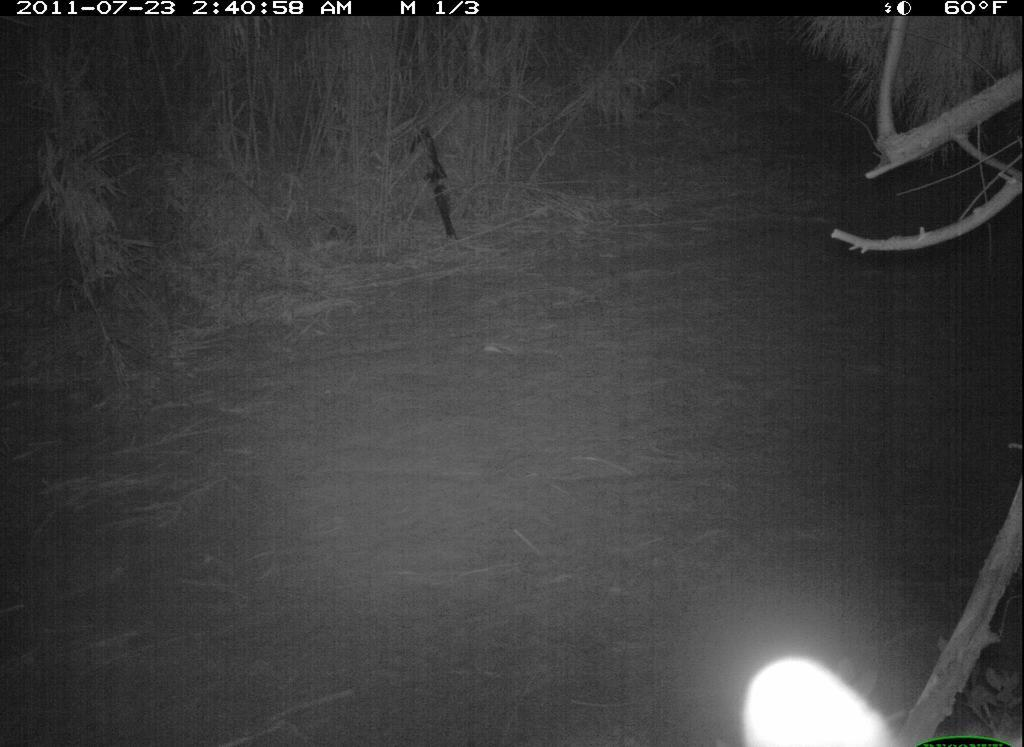raccoon: (731, 651, 888, 745)
